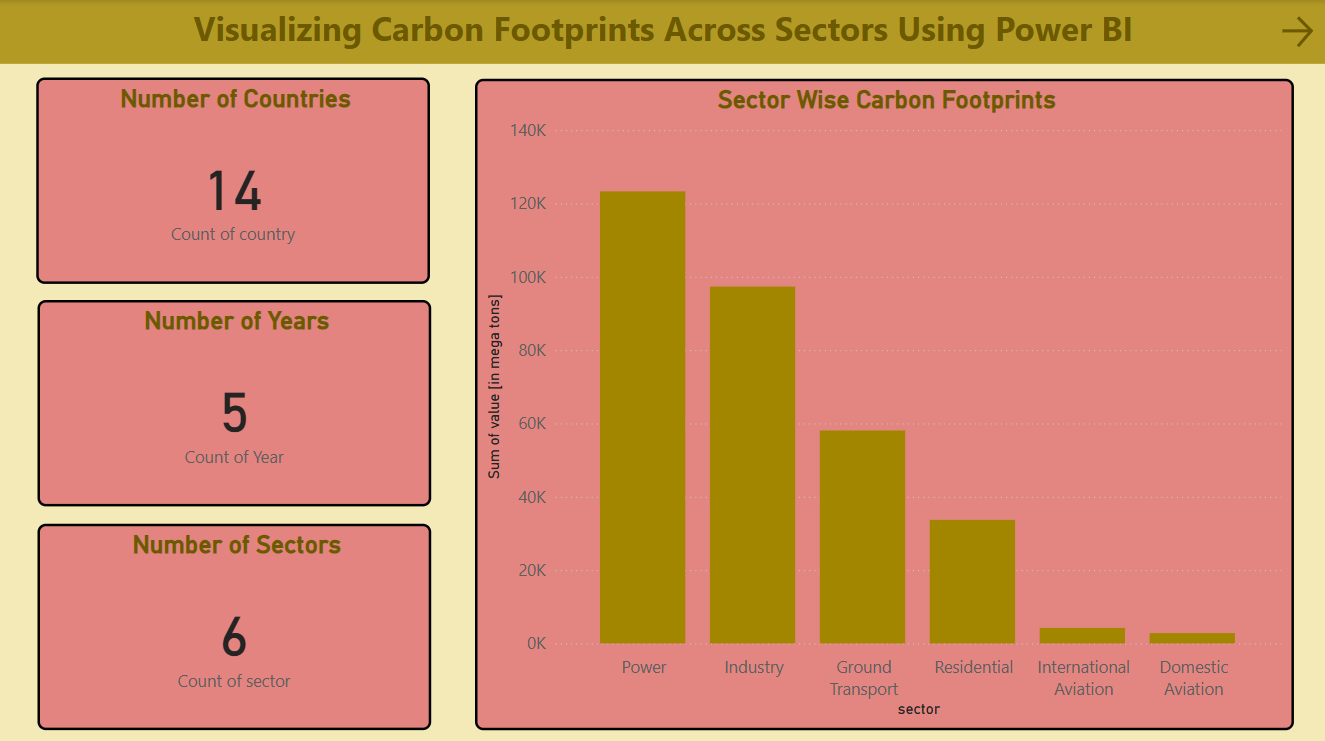

This screenshot's page, from the dashboard's own definition file:
{"tool":"powerbi","page":{"name":"Page 1","canvas":[1280,720],"ordinal":0},"visuals":[{"type":"textbox","box":[0,0,1280.3,61.7],"z":0},{"type":"card","title":"Number of Countries","fields":{"Values":["Count(80881fd3222431095135.country)"]},"box":[35,75,380,199.1],"z":1000},{"type":"card","title":"Number of Years","fields":{"Values":["Count(80881fd3222431095135.Year)"]},"box":[36.2,289.8,380,199.1],"z":2000},{"type":"card","title":"Number of Sectors","fields":{"Values":["Count(80881fd3222431095135.sector)"]},"box":[36.2,505.7,380,199.1],"z":3000},{"type":"columnChart","title":"Sector Wise Carbon Footprints","fields":{"Category":["80881fd3222431095135.sector"],"Y":["Sum(80881fd3222431095135.value [in mega tons])"]},"box":[458,76,790.2,628.6],"z":4000},{"type":"actionButton","box":[1231.8,10.9,39.8,39.8],"z":5000}]}

Visuals, with their boxes in screenshot pixels (x1, y1, x2, y2), scaled from the page's 1280x720 canvas onto the 1325x741 screenshot:
textbox: l=0, t=0, r=1324, b=63
"Number of Countries" card: l=36, t=77, r=430, b=282
"Number of Years" card: l=37, t=298, r=431, b=503
"Number of Sectors" card: l=37, t=520, r=431, b=725
"Sector Wise Carbon Footprints" columnChart: l=474, t=78, r=1292, b=725
actionButton: l=1275, t=11, r=1316, b=52
